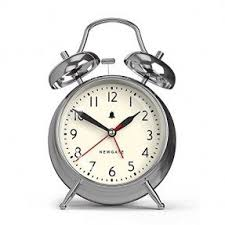alarm_clock: (40, 4, 177, 209), (49, 4, 177, 209)
